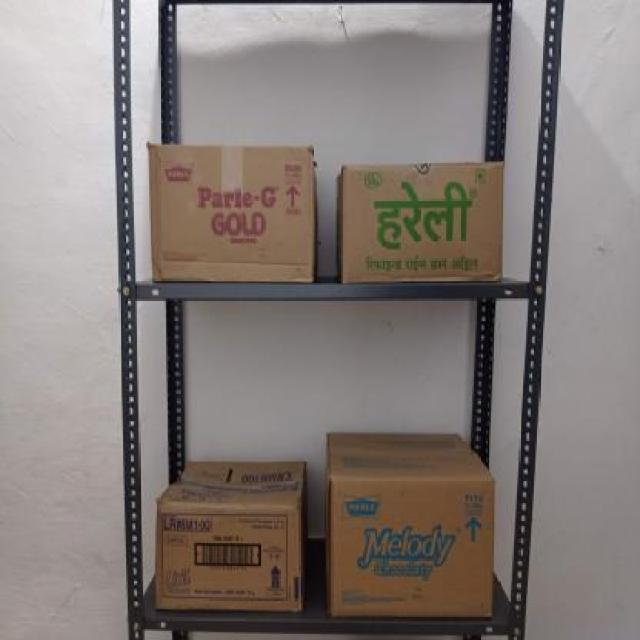box: (145, 141, 319, 287), (328, 477, 497, 619), (340, 163, 508, 280), (155, 509, 300, 617)
